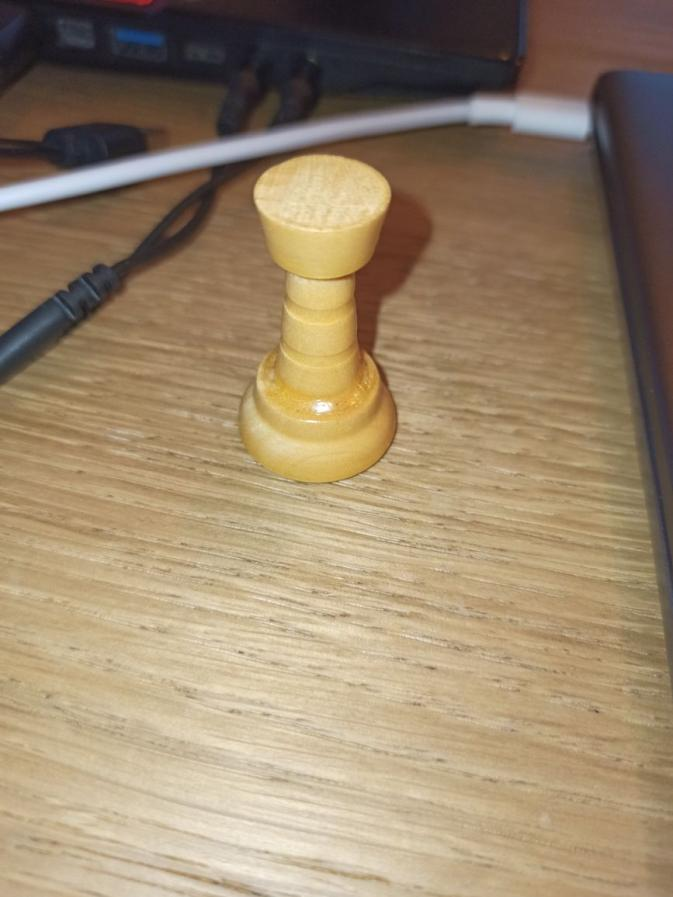wrook: (236, 154, 401, 485)
